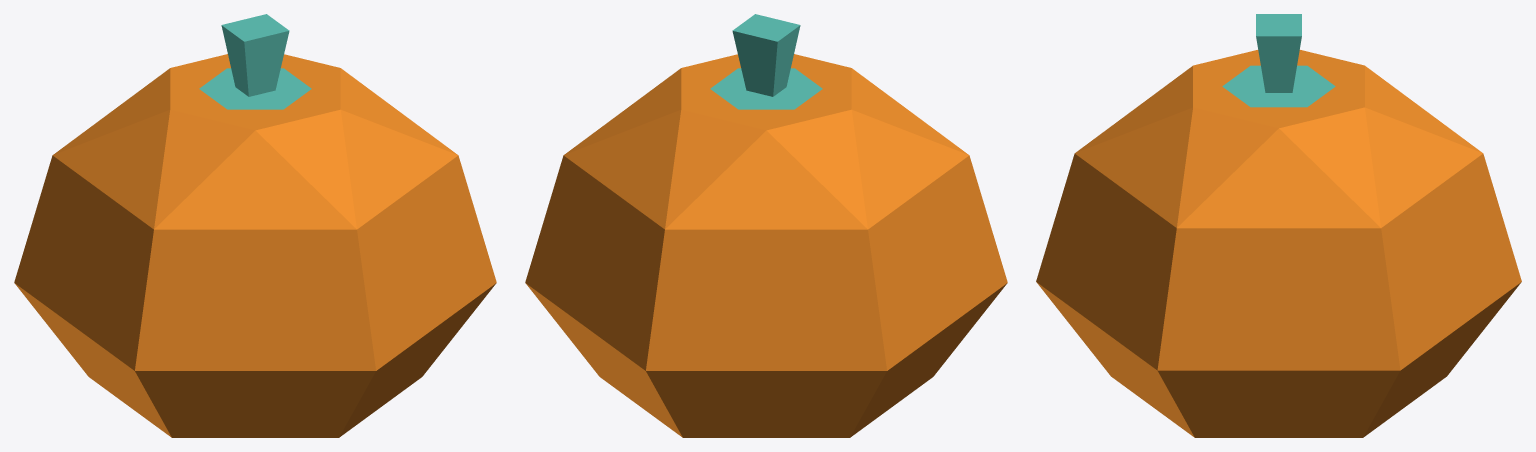
File: pumpkin.fbx
The picture shows the model from 3 angles, left to right: view 1: azimuth 30°, elevation 25°; view 2: azimuth 150°, elevation 25°; view 3: azimuth 270°, elevation 25°; orthographic projection.
Parts seen in each view (by area): view 1: pumpkin; view 2: pumpkin; view 3: pumpkin.
Boxes of the visible parts, box(x1,y1,x2,y2) form: pumpkin: box(14, 14, 496, 437); pumpkin: box(525, 14, 1007, 437); pumpkin: box(1036, 14, 1521, 437).
Size of the model in its own units: 2.94 by 2.71 by 3.4.
